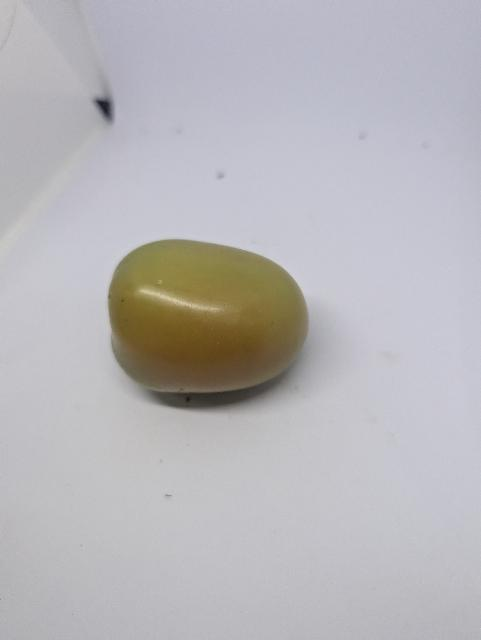breaker: (101, 237, 316, 397)
